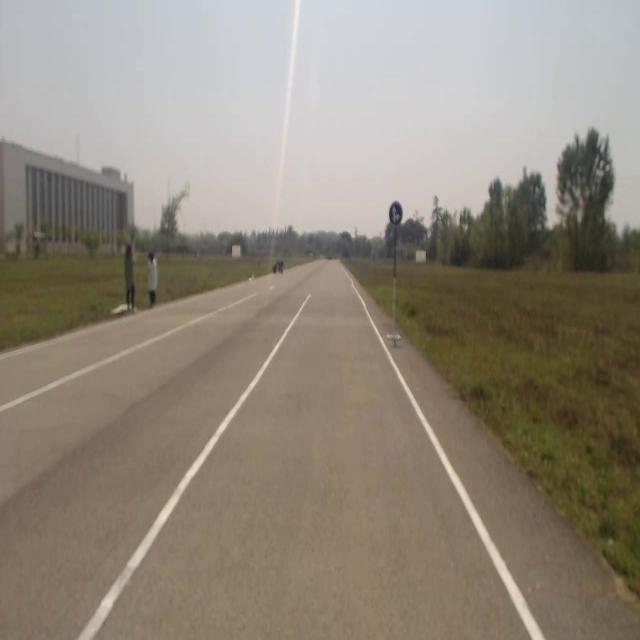ilerisag: (389, 202, 402, 225)
